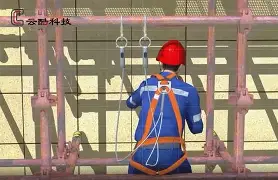safety belt: (125, 71, 198, 179)
